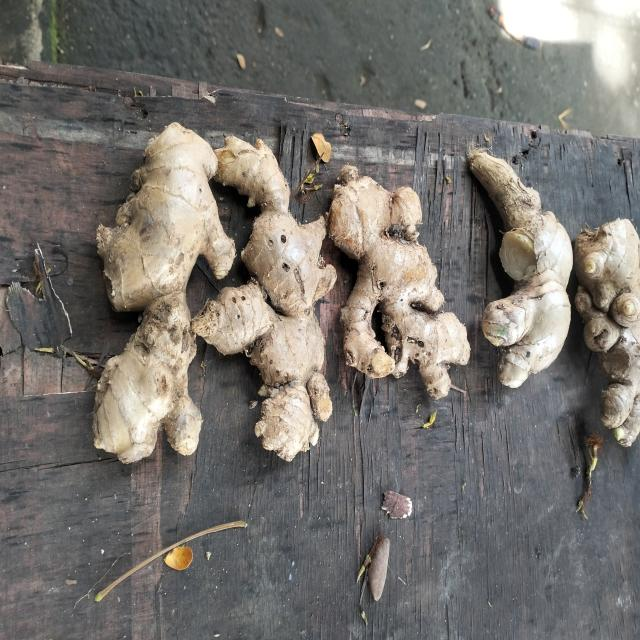ginger: (80, 94, 218, 479), (207, 94, 334, 482), (446, 126, 584, 420), (332, 147, 465, 415), (575, 198, 640, 449)
